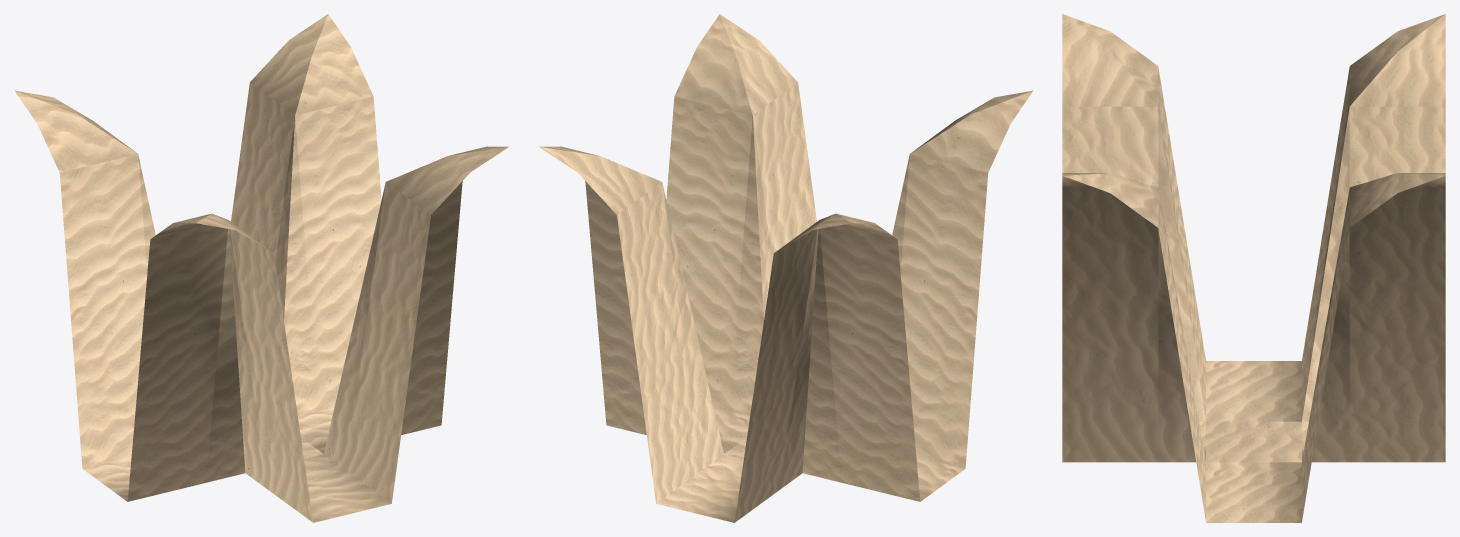
File: Sand4a.obj
The picture shows the model from 3 angles, left to right: view 1: azimuth 30°, elevation 25°; view 2: azimuth 150°, elevation 25°; view 3: azimuth 270°, elevation 25°; orthographic projection. The views are drawn at different scales.
Parts seen in each view (by area): view 1: Grid_Grid.025_Grid_Grid.014; view 2: Grid_Grid.025_Grid_Grid.014; view 3: Grid_Grid.025_Grid_Grid.014.
Boxes of the visible parts, x1,y1,x2,y2 form: Grid_Grid.025_Grid_Grid.014: (15,14,508,522); Grid_Grid.025_Grid_Grid.014: (539,14,1032,522); Grid_Grid.025_Grid_Grid.014: (1062,14,1445,522).
Bounding box in the file's own units: 1 × 1 × 1.
Materials: 1 (1 with a texture image).
